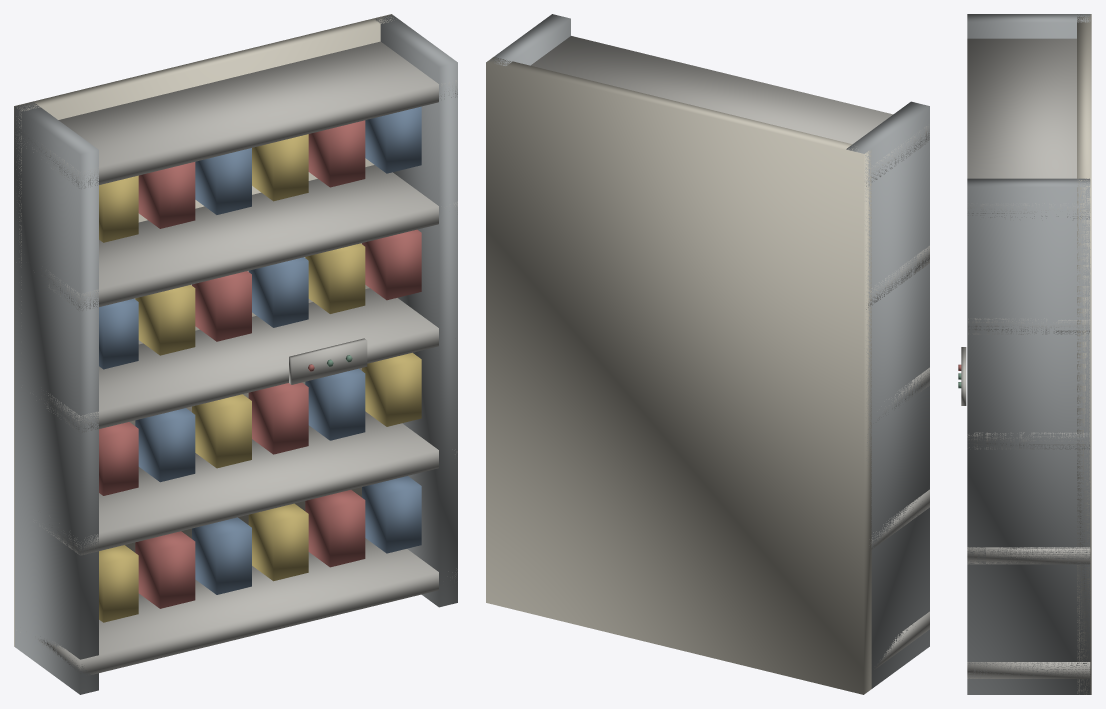
File: retail_gondola__tall.glb
3 renders of one model, left to right at view 1: azimuth 30°, elevation 25°; view 2: azimuth 150°, elevation 25°; view 3: azimuth 270°, elevation 25°, orthographic. The views are drawn at different scales.
Visible parts, largest first — view 1: world; view 2: world; view 3: world.
Boxes of the visible parts, x1=… form: world: x1=14, y1=14, x2=457, y2=694; world: x1=486, y1=14, x2=929, y2=694; world: x1=958, y1=14, x2=1091, y2=694.
Bounding box in the file's own units: 1.4 × 1.91 × 0.456.
